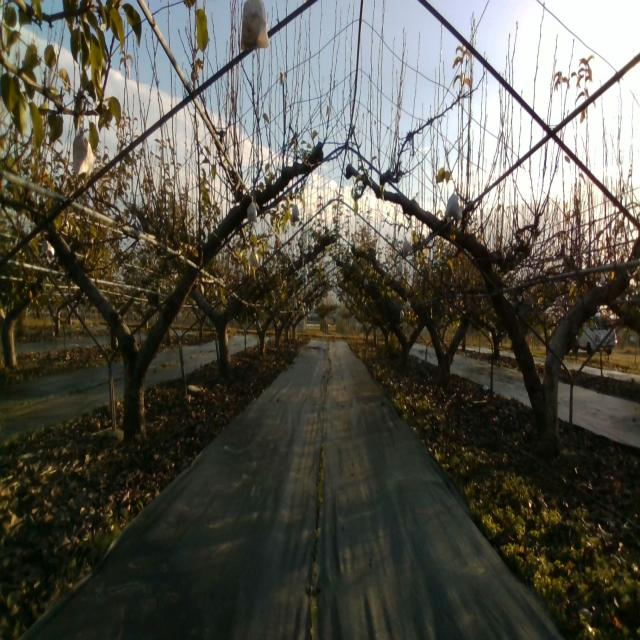pearbags: (240, 0, 270, 51), (72, 128, 94, 188), (444, 192, 464, 219), (246, 195, 258, 225)
